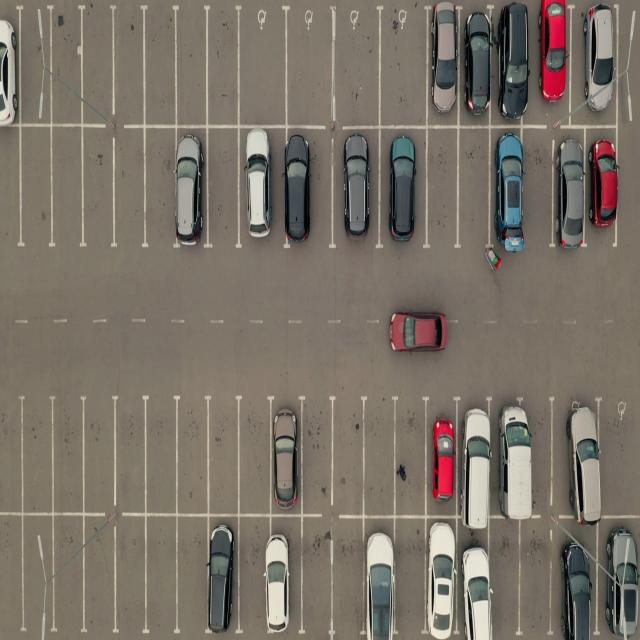space-empty: (238, 8, 289, 126), (377, 7, 425, 128), (287, 10, 337, 126), (334, 8, 381, 126), (45, 516, 87, 633), (46, 6, 86, 126), (48, 127, 86, 250), (142, 6, 180, 127), (600, 403, 640, 517), (15, 127, 52, 250), (113, 5, 150, 126), (175, 7, 212, 127), (78, 131, 115, 251), (77, 5, 114, 125), (16, 399, 54, 515), (78, 399, 116, 515), (205, 7, 242, 126), (458, 128, 494, 250), (17, 515, 54, 633), (206, 128, 242, 248), (141, 130, 177, 250), (112, 131, 148, 251), (143, 396, 180, 512), (331, 520, 368, 636), (49, 400, 86, 515), (177, 397, 214, 512), (115, 396, 152, 511), (79, 515, 115, 633), (393, 398, 429, 514), (142, 517, 178, 633), (359, 398, 395, 514), (238, 396, 274, 512), (520, 522, 556, 637), (115, 516, 150, 633), (205, 396, 240, 512), (395, 519, 429, 638), (297, 398, 333, 510), (331, 397, 366, 511), (424, 126, 457, 246), (177, 517, 211, 633), (297, 518, 331, 634), (15, 9, 48, 124), (488, 518, 520, 636), (524, 126, 555, 247), (0, 396, 24, 516), (0, 514, 24, 633), (0, 128, 22, 252)
space-occupied: (488, 127, 548, 250), (282, 130, 332, 250), (552, 397, 600, 518), (492, 398, 538, 520), (240, 129, 286, 249), (333, 130, 379, 248), (382, 125, 428, 243), (574, 1, 618, 123), (260, 513, 300, 634), (551, 536, 596, 639), (601, 519, 640, 637), (459, 396, 497, 517), (535, 1, 572, 122), (425, 6, 461, 126), (493, 4, 529, 123), (424, 398, 459, 516), (459, 519, 493, 639), (424, 518, 458, 637), (362, 517, 395, 638), (177, 130, 210, 250), (268, 397, 303, 510), (554, 130, 587, 247), (463, 8, 496, 124), (207, 516, 238, 632), (585, 128, 615, 241), (0, 6, 22, 124)
